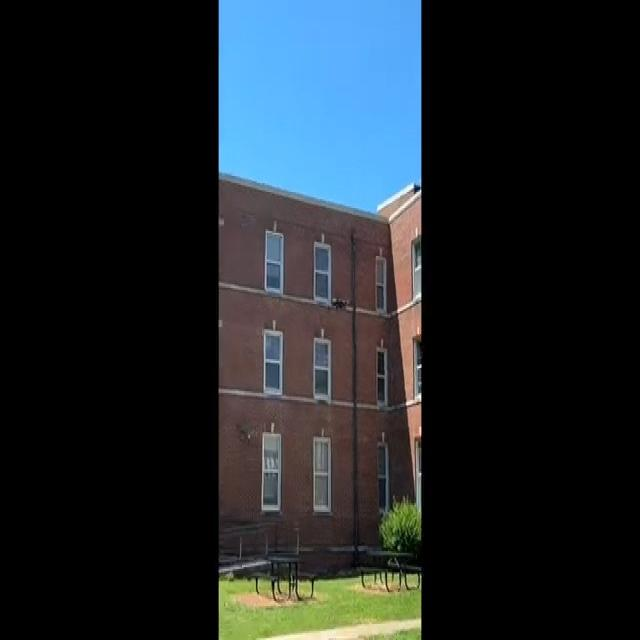drone: (323, 287, 356, 324)
